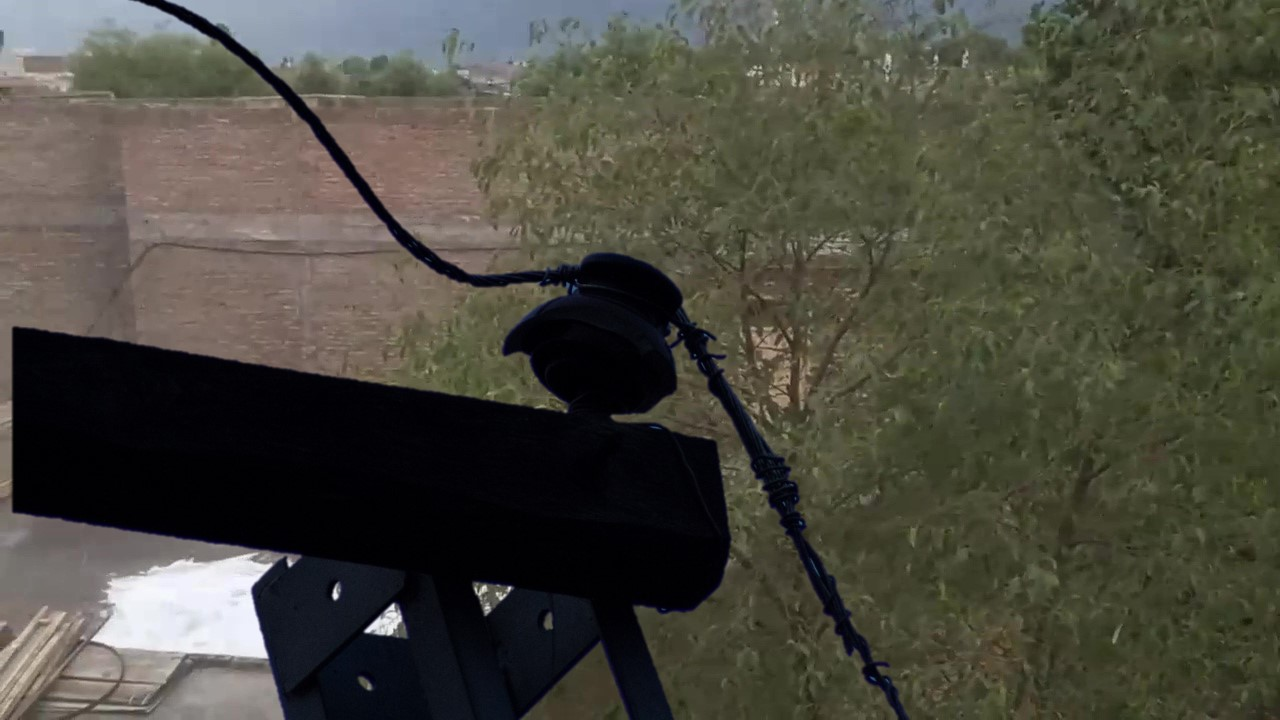defect_pin: (501, 251, 694, 418)
